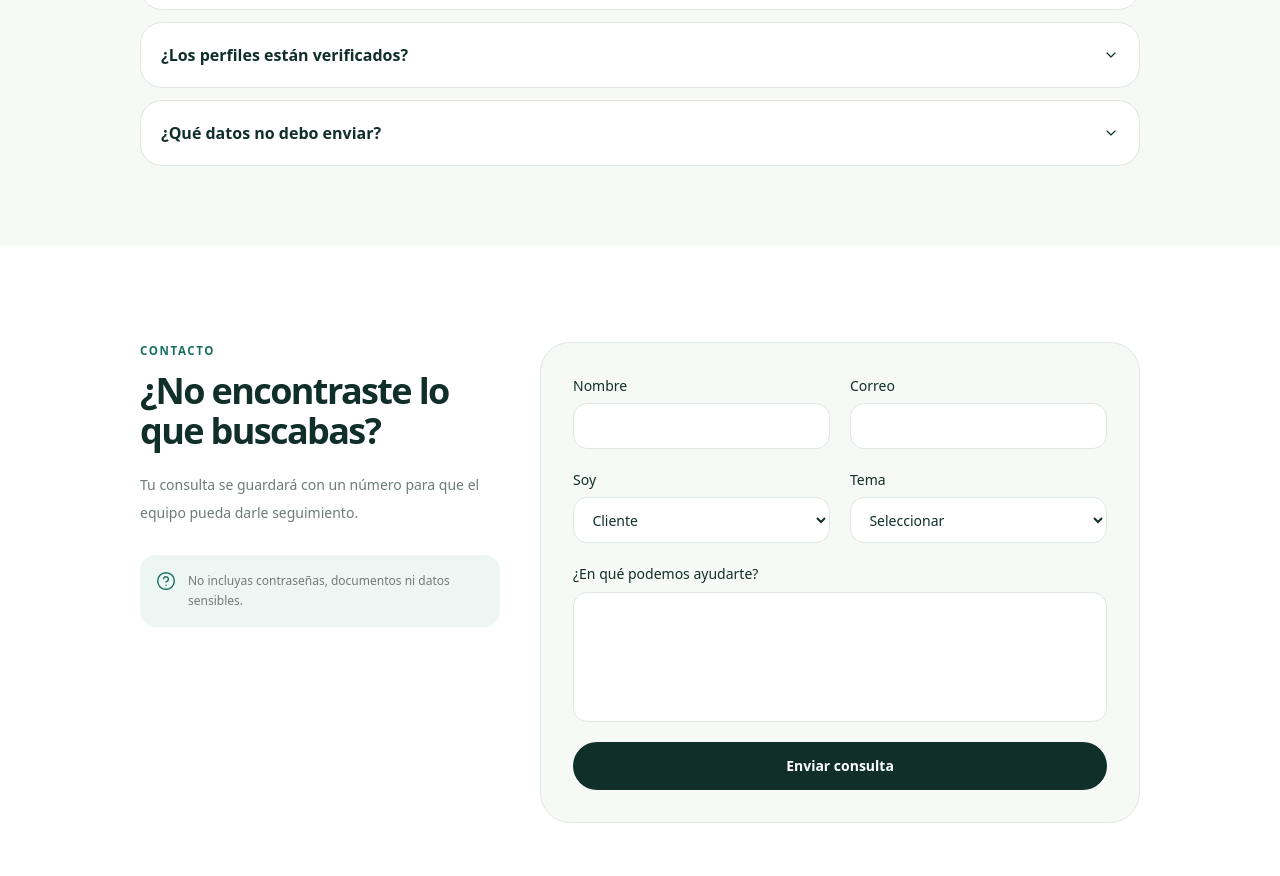
Test: HelpCenter › registra una consulta en el backend
(page scrolled)
In the field labelled "Nombre": (702, 426) [573,403,830,449], type "Ana López"
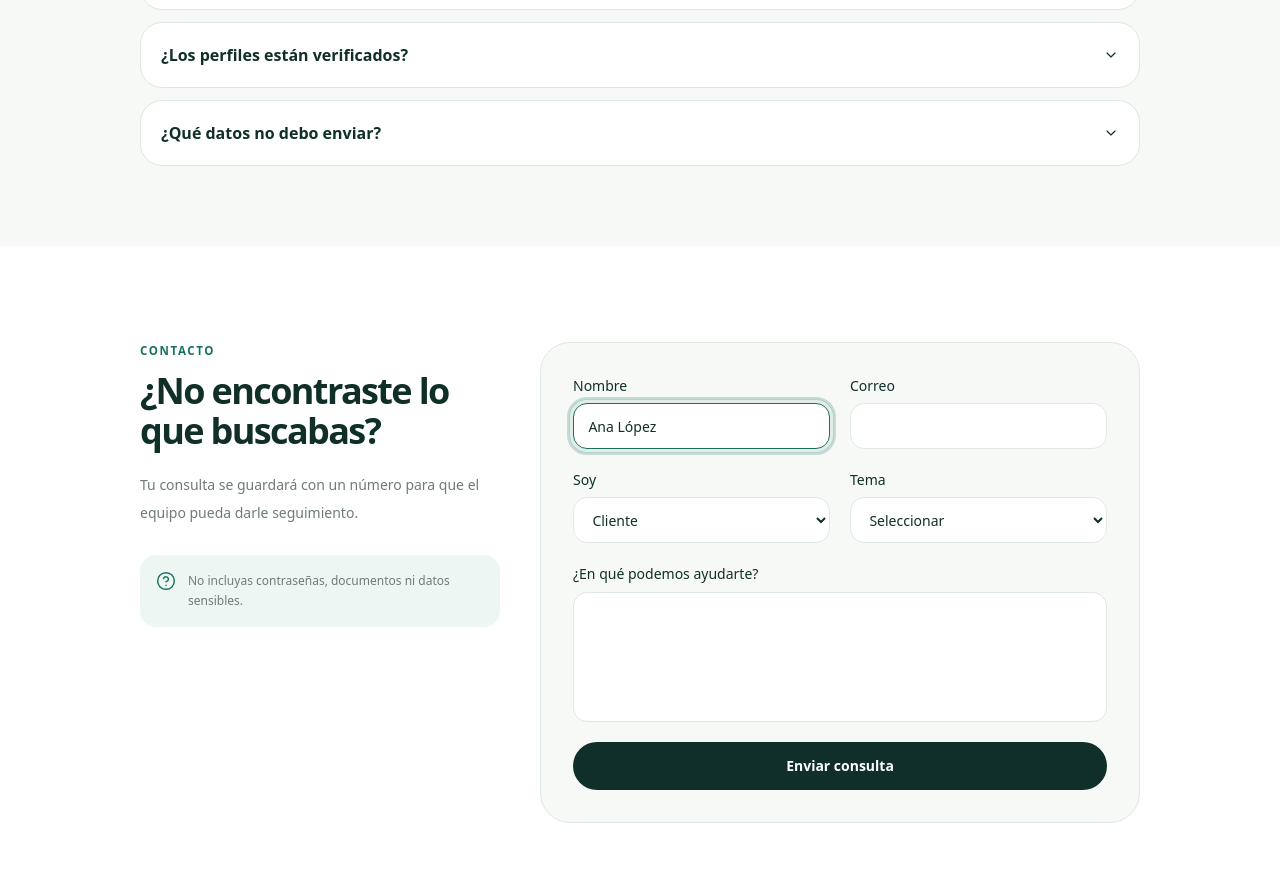
In the field labelled "Correo": (978, 426) [850,403,1107,449], type "ana@correo.com"
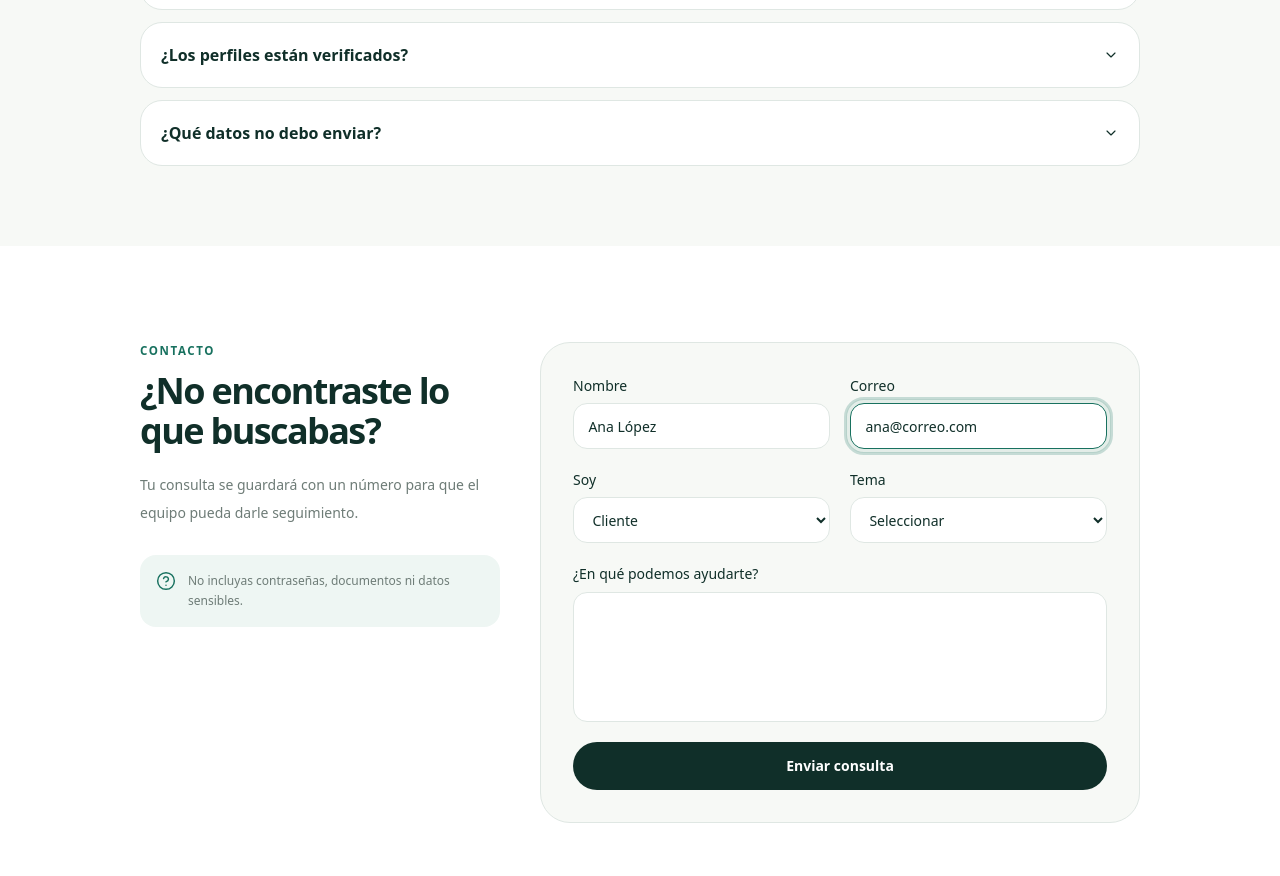
Select "Cuenta y acceso" in the dropdown labelled "Tema": (978, 520) [850,498,1107,544]
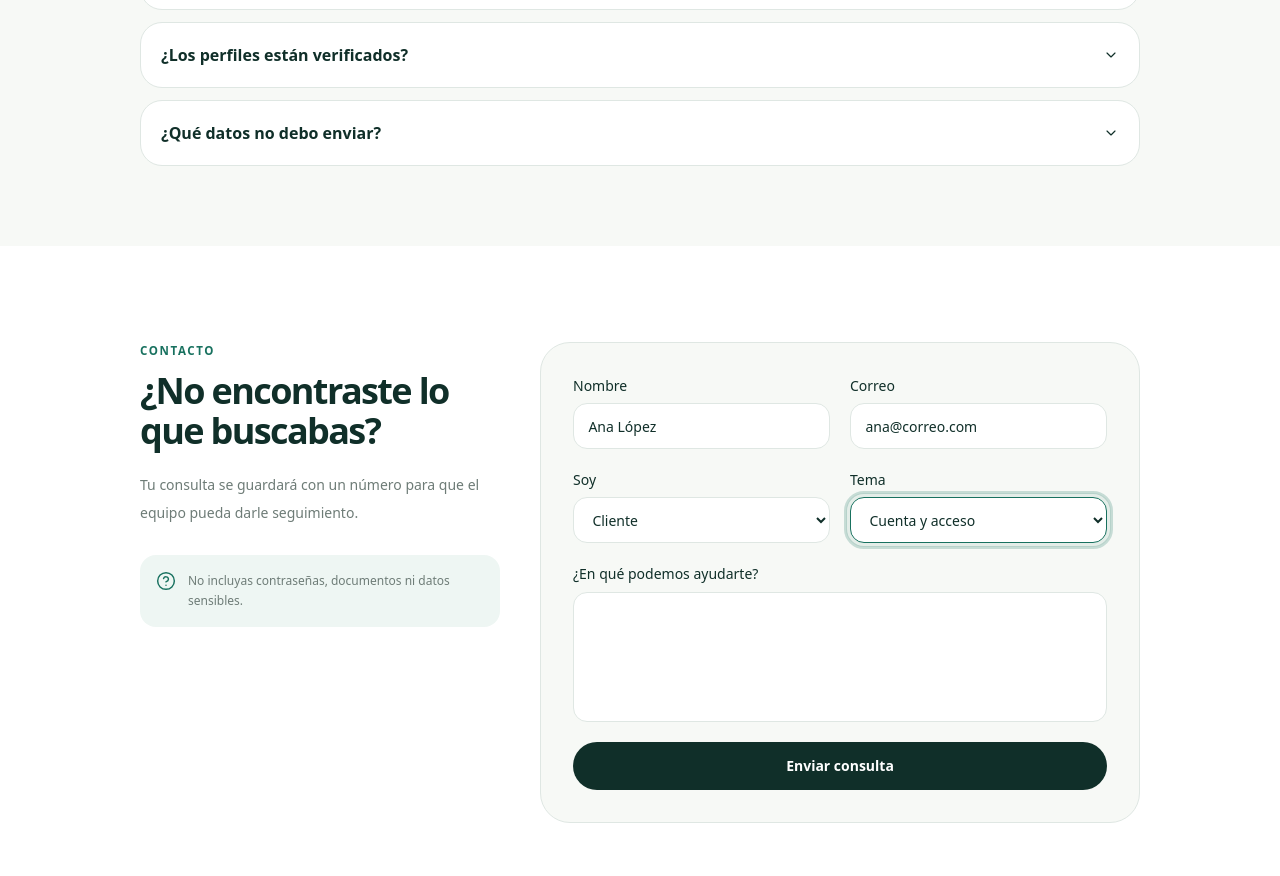
In the text box labelled "¿En qué podemos ayudarte?": (840, 657) [573,592,1107,722], type "Necesito ayuda para recuperar el acceso a mi cuenta."
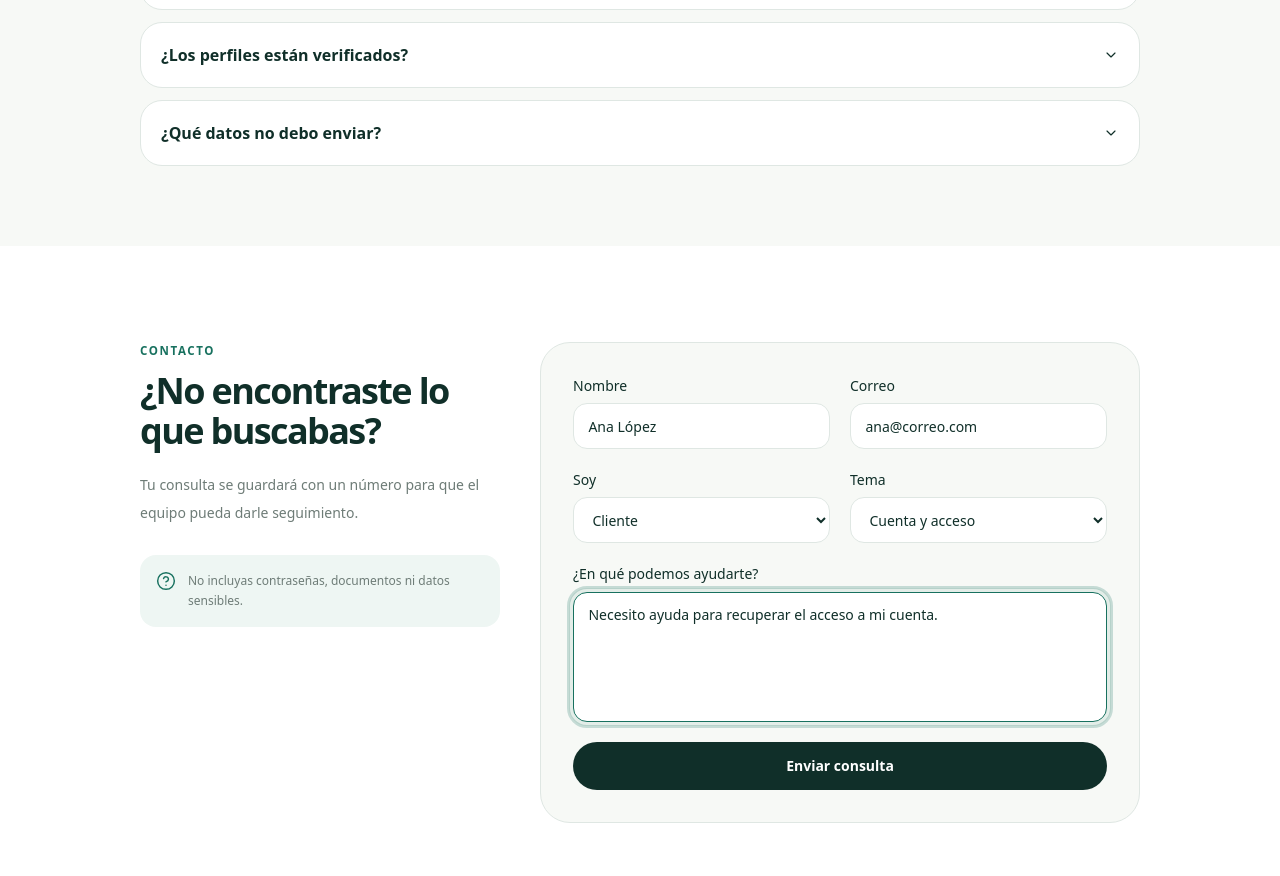
Click the button "Enviar consulta": (840, 766) [573,742,1107,790]
(page scrolled)
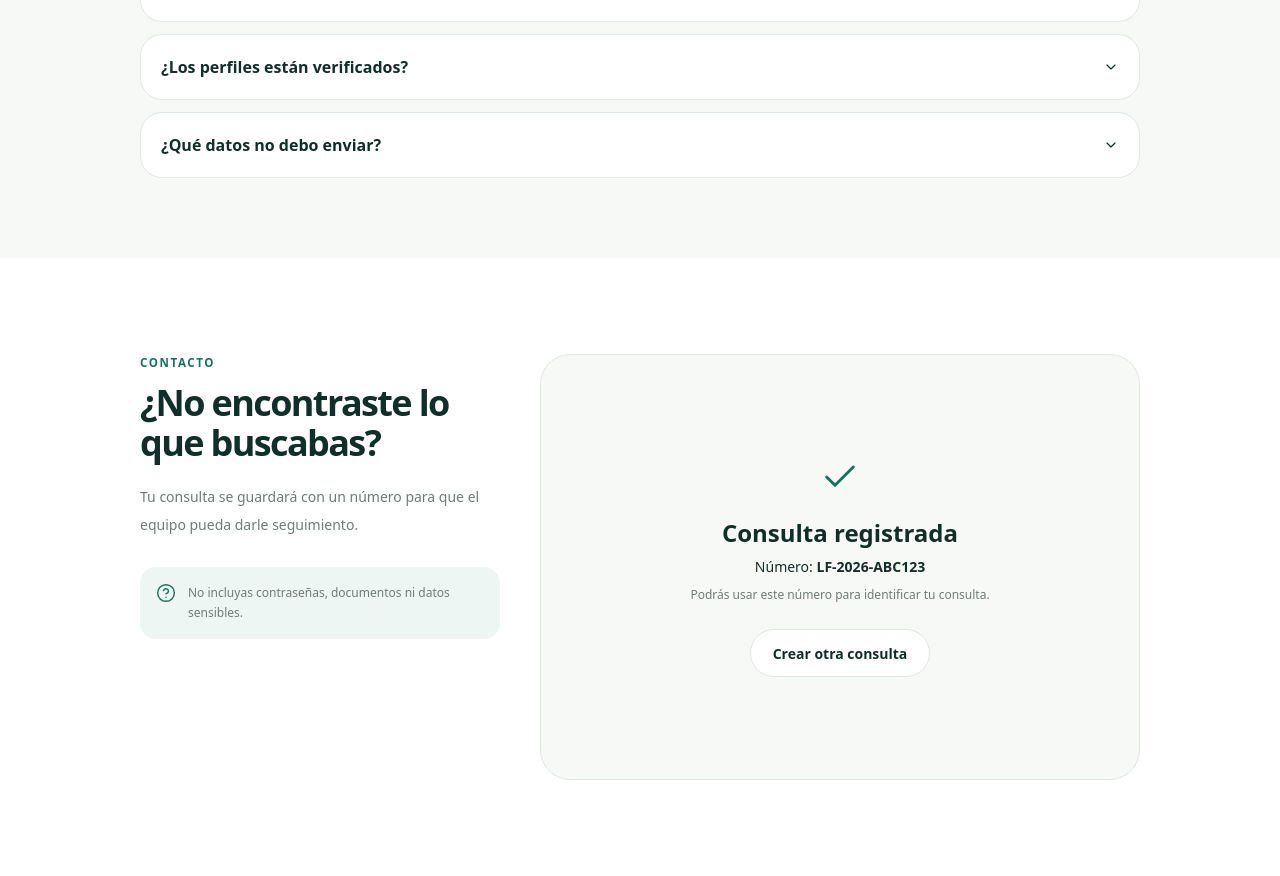
Expected: the heading "Consulta registrada" is shown, [722,517,958,549]
Expected: the text "LF-2026-ABC123" is shown, [816,557,925,576]
